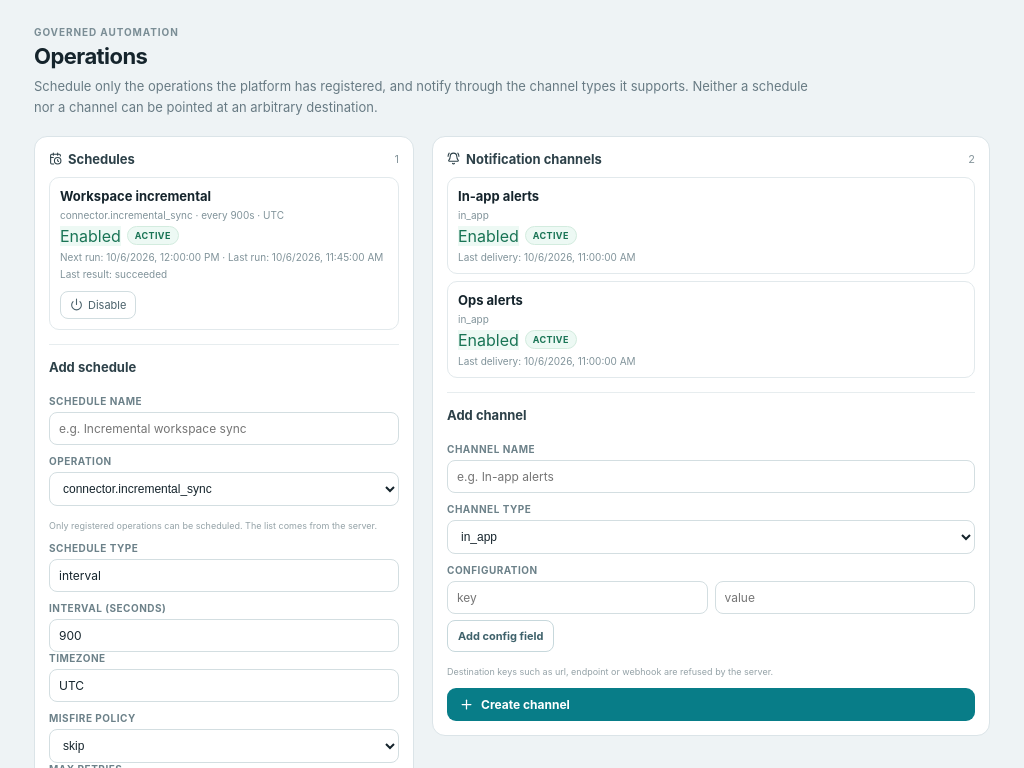
Test: creates a notification channel and lists notifications
The image size is (1024, 768).
Expected: the text "In-app alerts" is shown, x1=458 y1=188 x2=539 y2=204
In the field labelled "Channel name": coordinates (711, 476) x1=447 y1=460 x2=975 y2=493, type "Ops alerts"
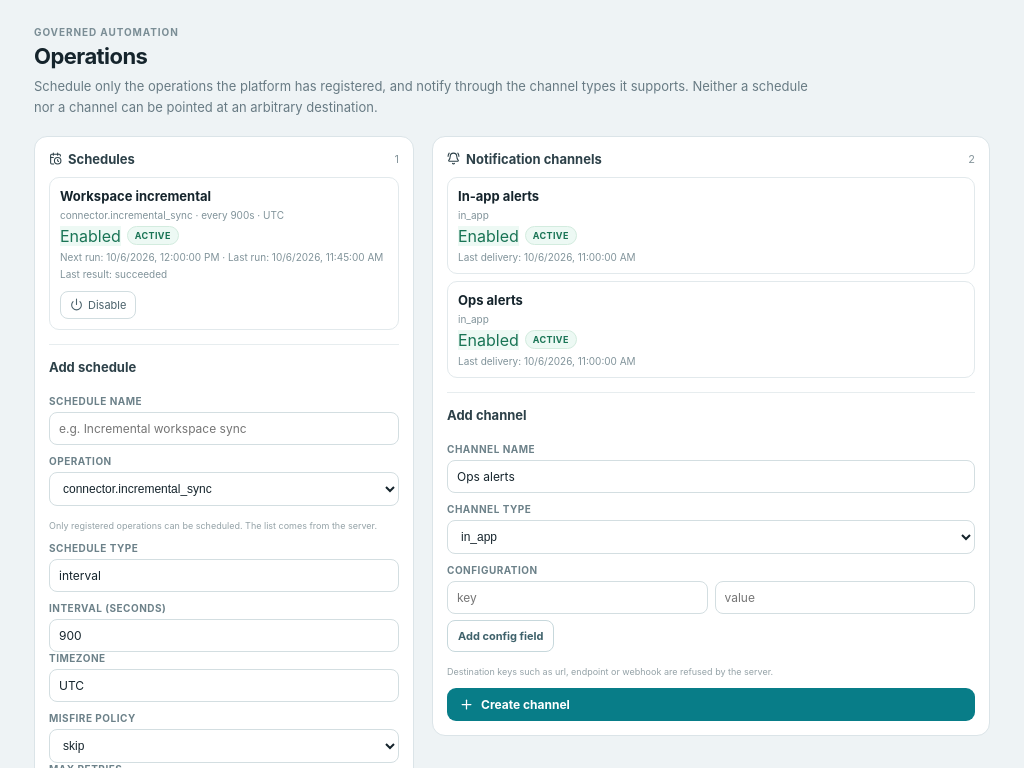
Click the button "Create channel": coordinates (525, 704) x1=447 y1=688 x2=975 y2=721
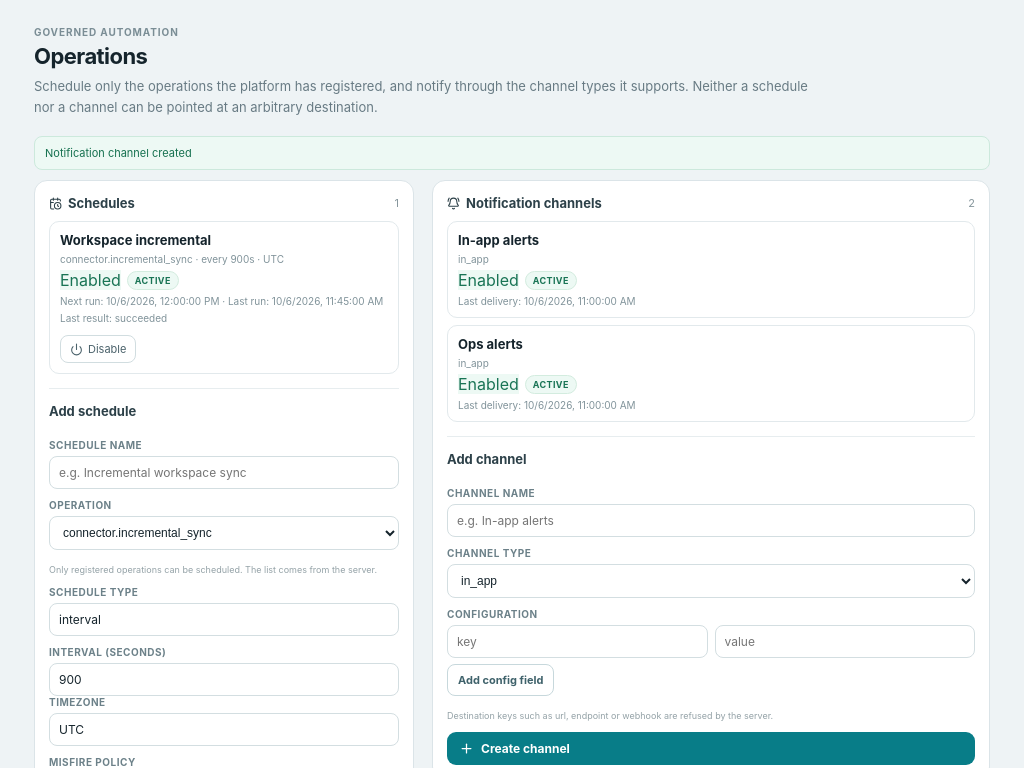
Expected: the text "Ops alerts" is shown, x1=458 y1=336 x2=523 y2=352
Now the text "Notification channel created" is shown, box x1=34 y1=136 x2=990 y2=170
